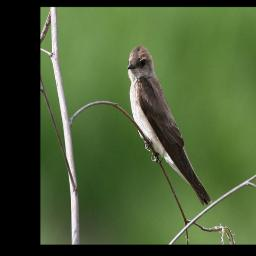Swallow: (126, 44, 214, 208)
